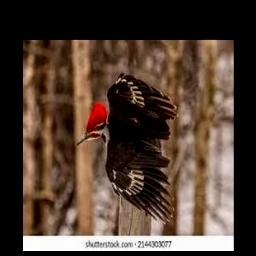Woodpecker: (77, 73, 178, 224)
